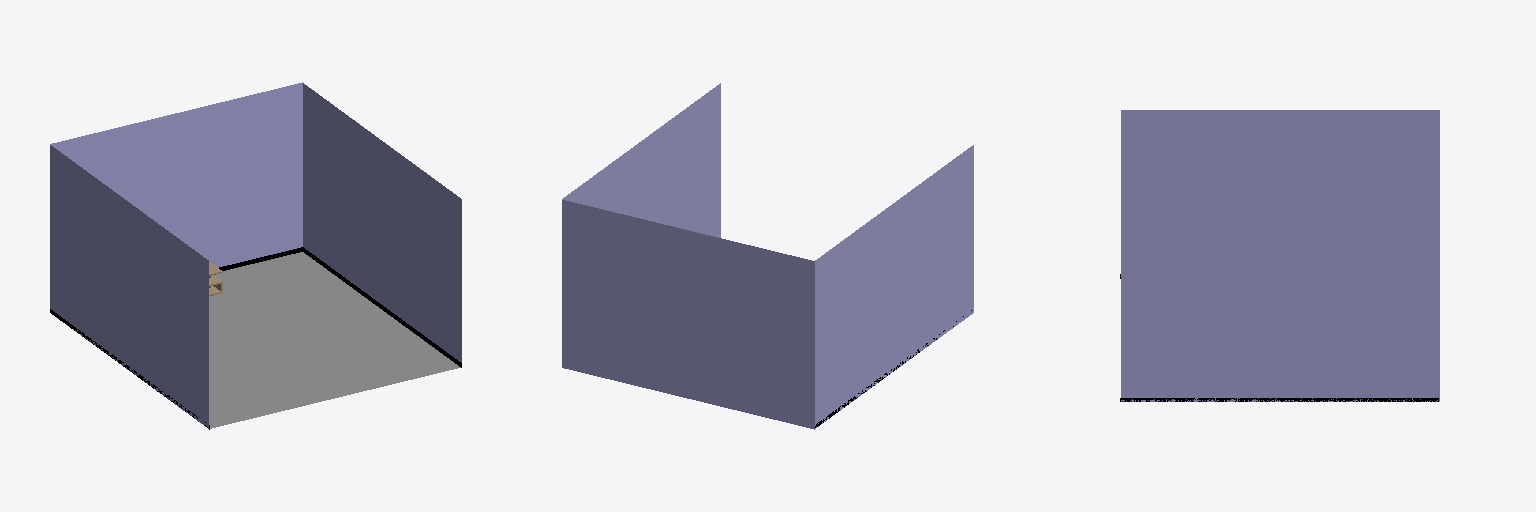
Rendered from modern_tables.obj.
3 renders of one model, left to right at view 1: azimuth 30°, elevation 25°; view 2: azimuth 150°, elevation 25°; view 3: azimuth 270°, elevation 25°, orthographic.
Visible parts, largest first — view 1: pPlane1, skirts polySurface1; view 2: pPlane1; view 3: pPlane1, skirts polySurface1.
Boxes of the visible parts, x1,y1,x2,y2 form: pPlane1: [50, 82, 461, 428]; skirts polySurface1: [303, 247, 461, 367]; pPlane1: [562, 83, 973, 429]; pPlane1: [1121, 110, 1439, 401]; skirts polySurface1: [1120, 398, 1438, 401].
Size of the model in its own units: 550 by 350 by 602.